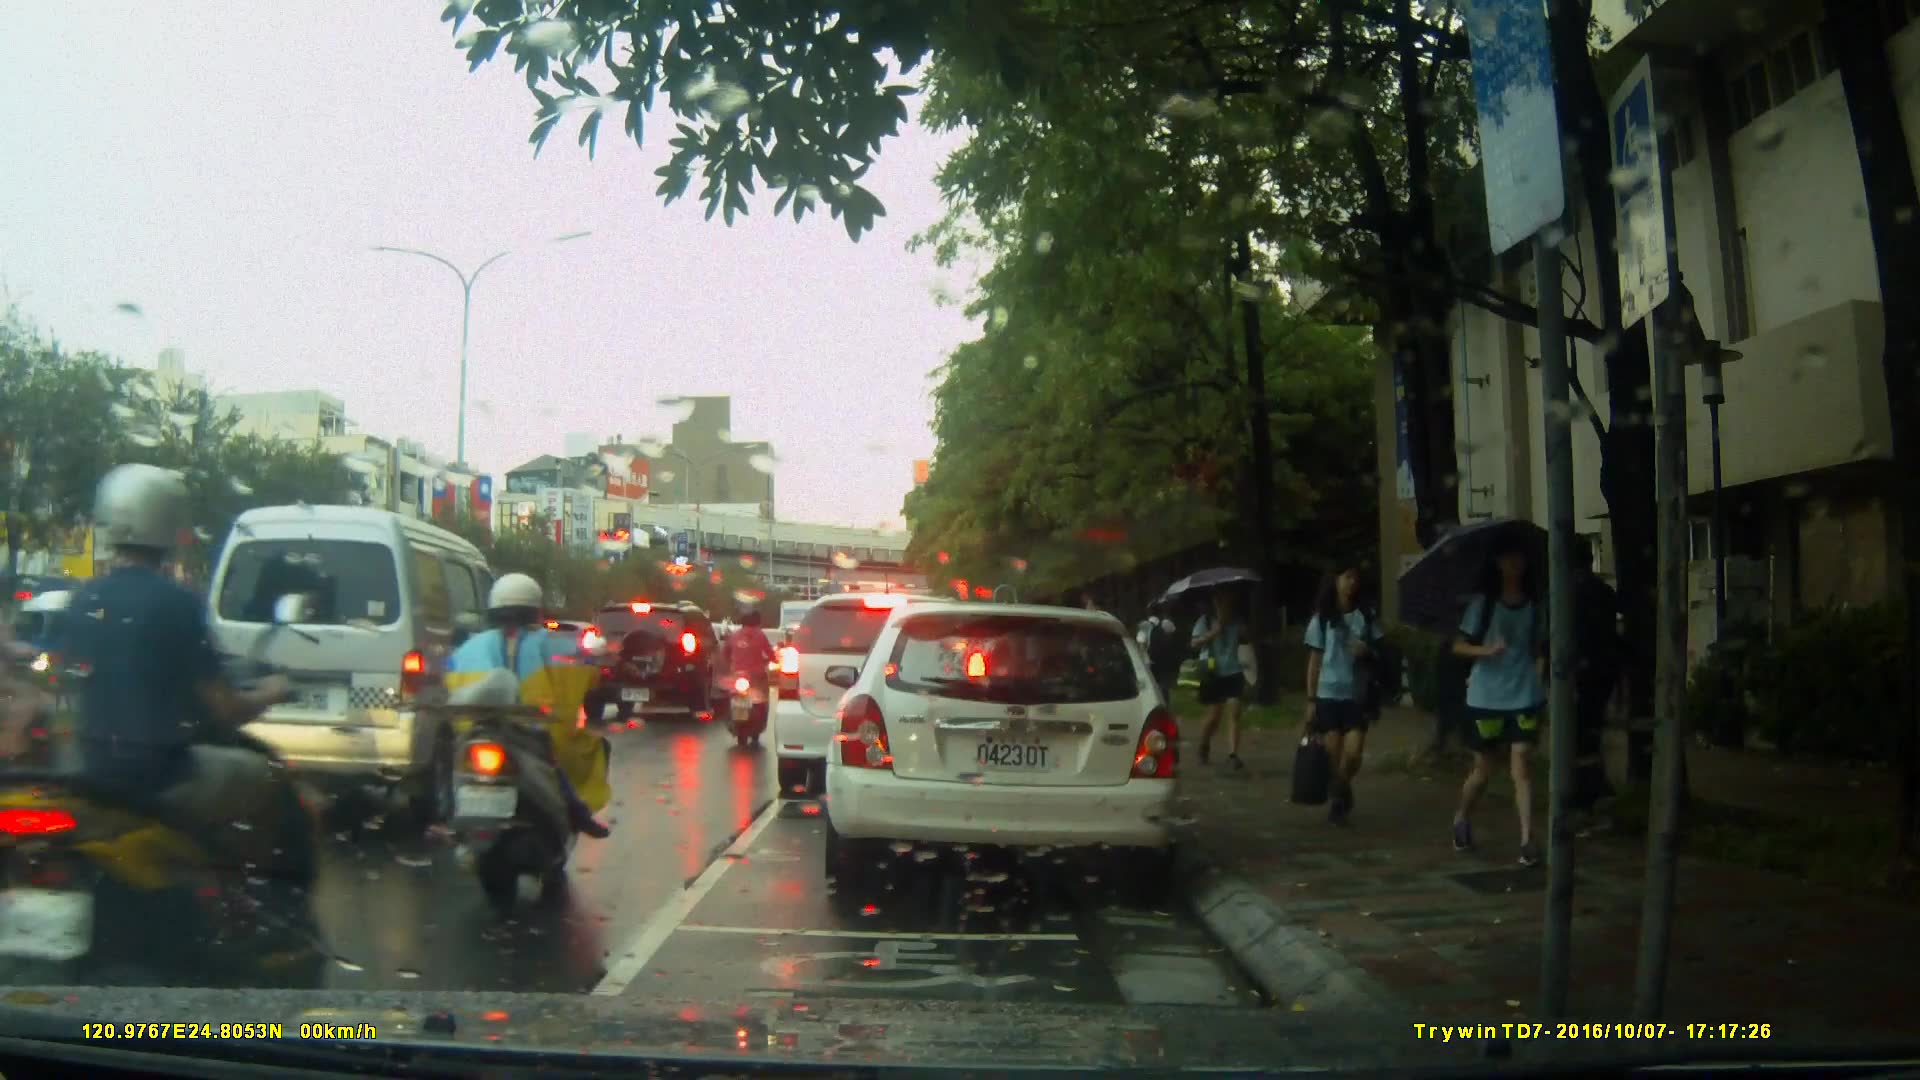pedestrian: (1423, 530, 1564, 873), (1535, 530, 1644, 857), (1291, 556, 1388, 840), (1180, 578, 1251, 780)
rider: (20, 464, 320, 1052), (435, 570, 612, 915), (718, 602, 778, 746)
vehicle: (815, 593, 1204, 909), (183, 502, 515, 841), (770, 590, 994, 802), (577, 603, 737, 726)
